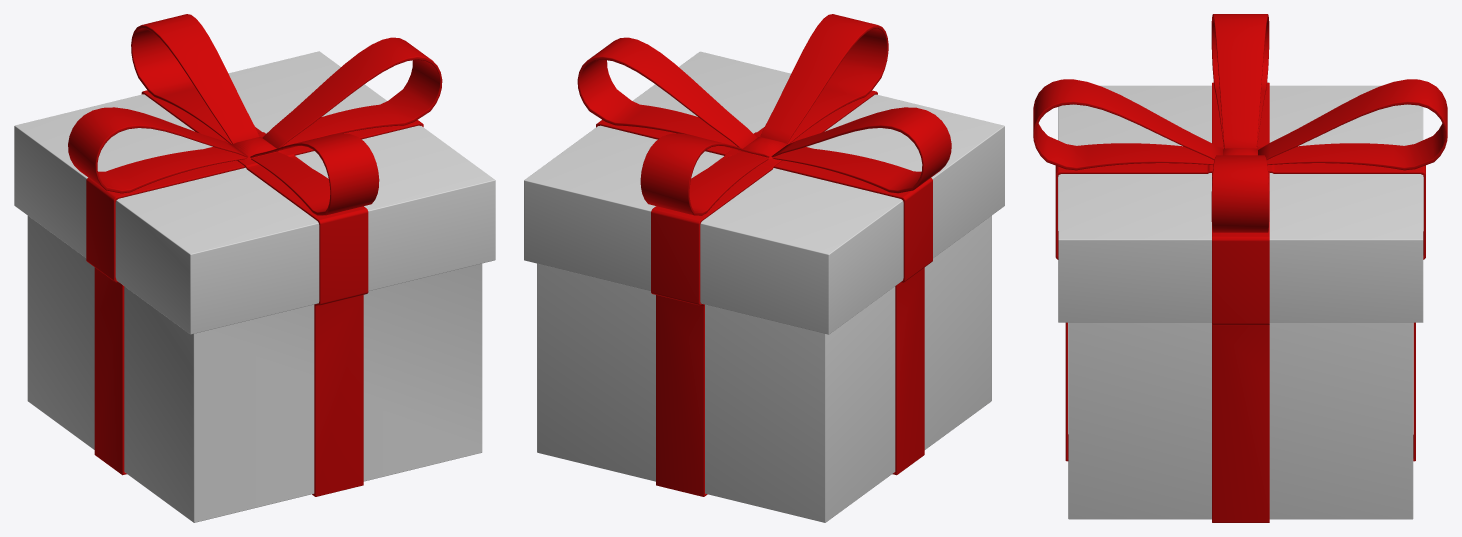
Rendered from gift2.dae.
The picture shows the model from 3 angles, left to right: view 1: azimuth 30°, elevation 25°; view 2: azimuth 150°, elevation 25°; view 3: azimuth 270°, elevation 25°; orthographic projection. The views are drawn at different scales.
Visible parts, largest first — view 1: Component_7, Component_8, Component_12 (×4), Component_4 (×6), Component_11; view 2: Component_7, Component_8, Component_12 (×4), Component_4 (×6), Component_11; view 3: Component_8, Component_7, Component_12 (×4), Component_4 (×5).
Part boxes in pixels (box(x1,y1,x2,y2)): Component_7: box(27, 216, 482, 522); Component_8: box(14, 51, 495, 334); Component_12 (×4): box(68, 14, 442, 215); Component_4 (×6): box(86, 90, 423, 496); Component_11: box(232, 137, 280, 159); Component_7: box(537, 215, 991, 522); Component_8: box(524, 51, 1004, 334); Component_12 (×4): box(577, 14, 951, 215); Component_4 (×6): box(596, 90, 932, 496); Component_11: box(739, 137, 787, 159); Component_8: box(1058, 85, 1423, 322); Component_7: box(1068, 322, 1413, 519); Component_12 (×4): box(1033, 14, 1447, 232); Component_4 (×5): box(1055, 82, 1425, 522).
Size of the model in its own units: 82.74 by 82.74 by 79.06.
